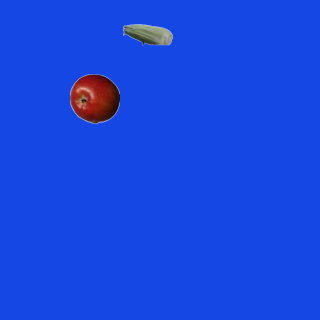Apple Braeburn: (69, 73, 119, 123)
Corn Husk: (122, 9, 172, 59)
